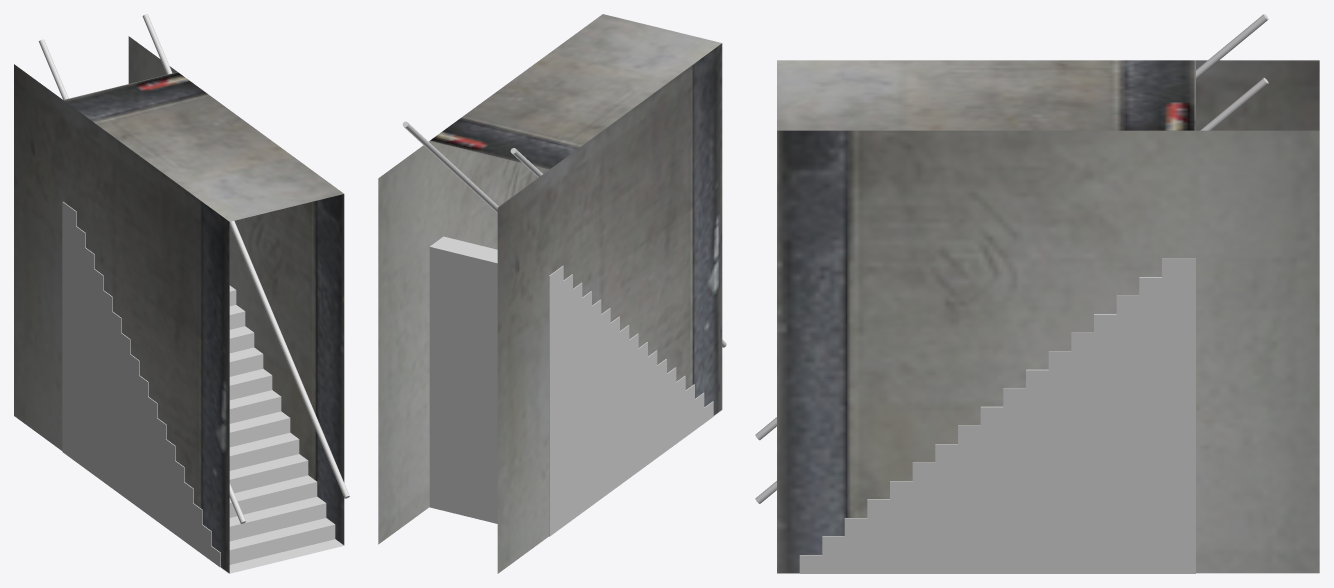
File: Stairs.fbx
3 renders of one model, left to right at view 1: azimuth 30°, elevation 25°; view 2: azimuth 150°, elevation 25°; view 3: azimuth 270°, elevation 25°, orthographic. The views are drawn at different scales.
Parts seen in each view (by area): view 1: Stairs, Stairs_001, Stairs_003; view 2: Stairs, Stairs_001, Stairs_003; view 3: Stairs, Stairs_001, Stairs_003.
Part boxes in pixels (box(x1,y1,x2,y2)): Stairs: box(14, 36, 344, 573); Stairs_001: box(62, 202, 344, 573); Stairs_003: box(38, 14, 349, 523); Stairs: box(378, 14, 722, 573); Stairs_001: box(429, 236, 722, 536); Stairs_003: box(402, 121, 726, 347); Stairs: box(777, 60, 1319, 573); Stairs_001: box(777, 258, 1195, 573); Stairs_003: box(755, 14, 1268, 503).
Bounding box in the file's own units: 3.98 × 12.81 × 13.31.
